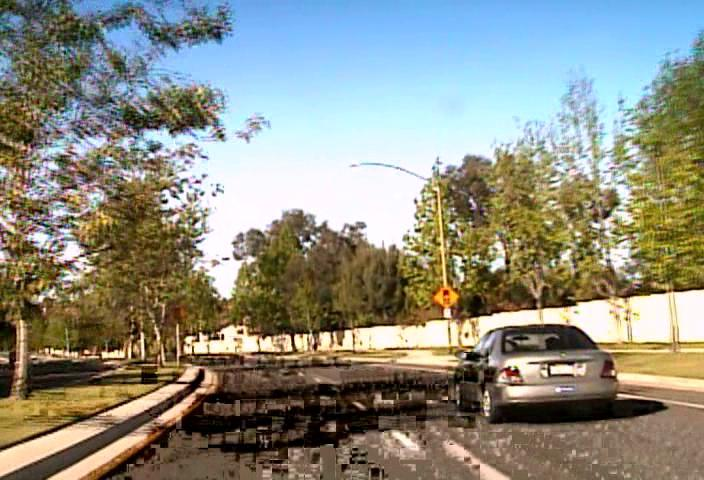signalAhead: (432, 284, 460, 309)
